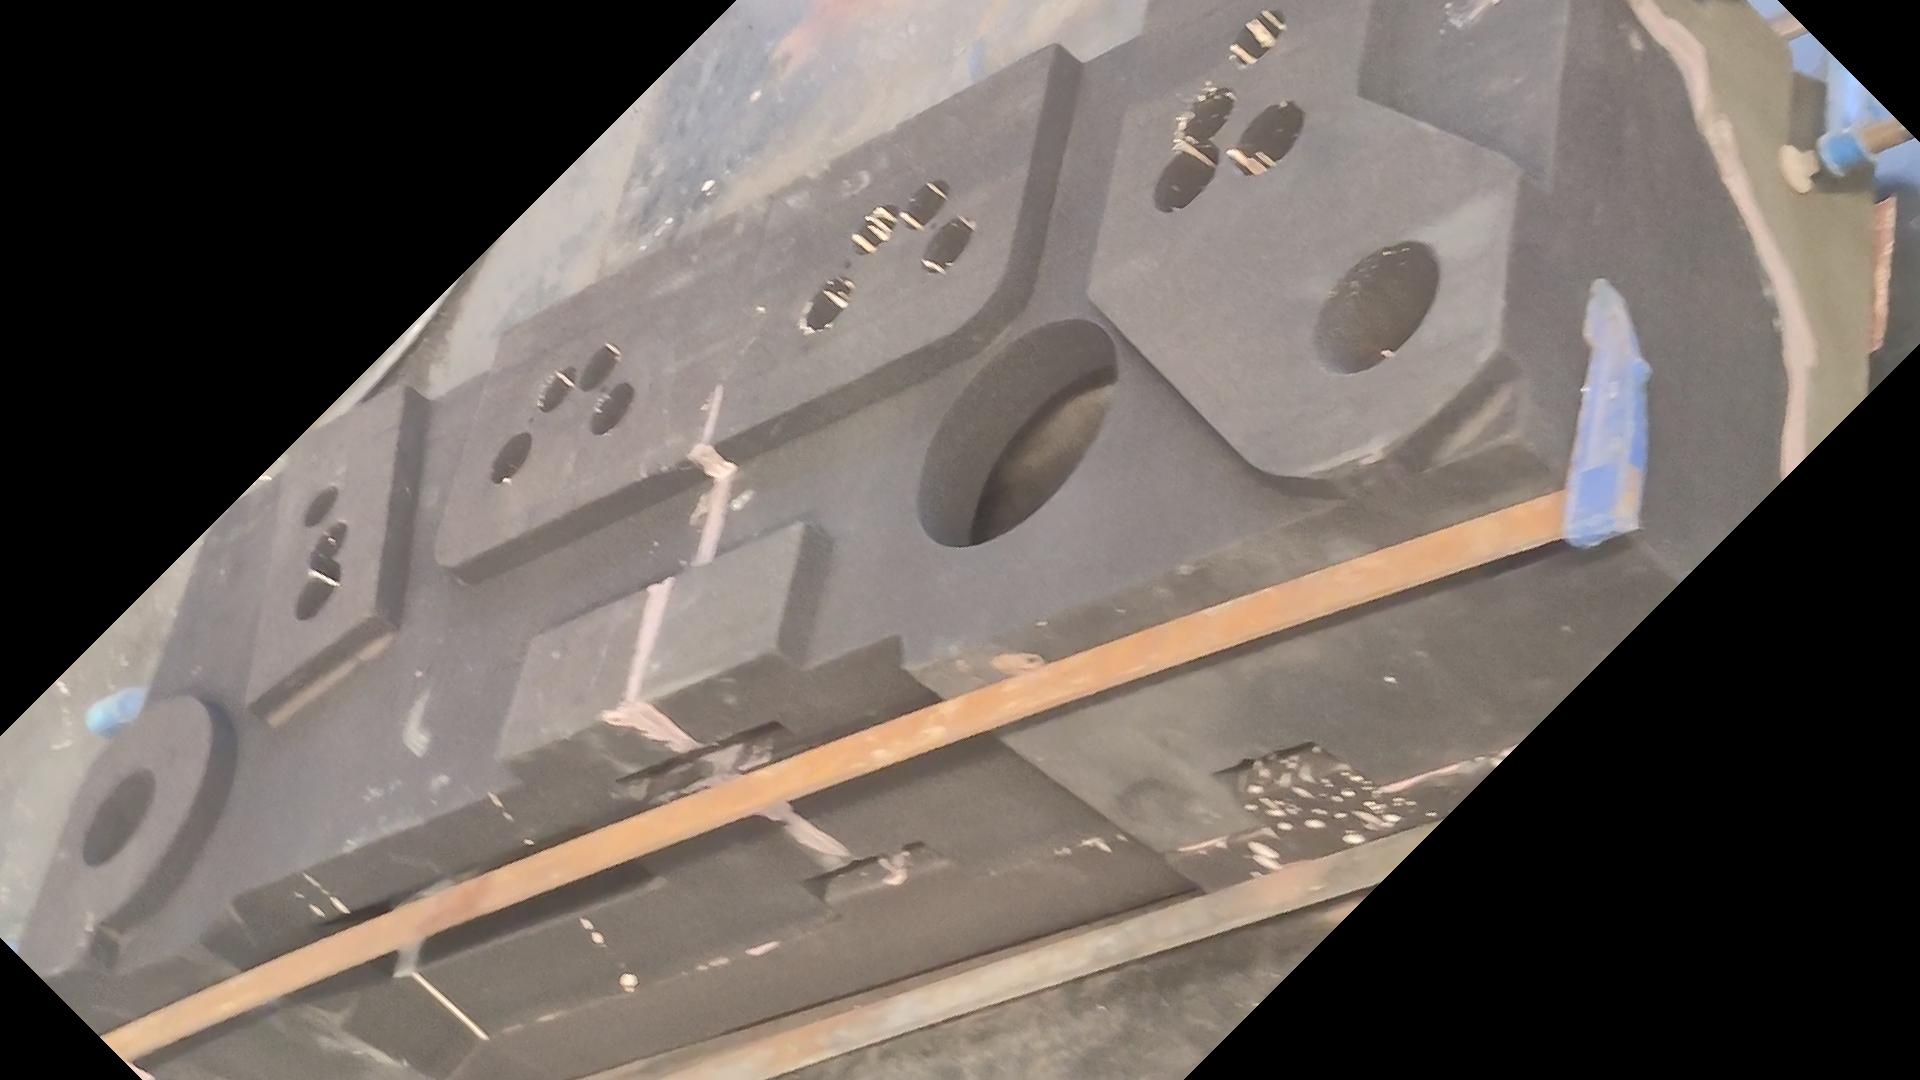pouring hole: (1309, 243, 1440, 376), (83, 767, 156, 868)
